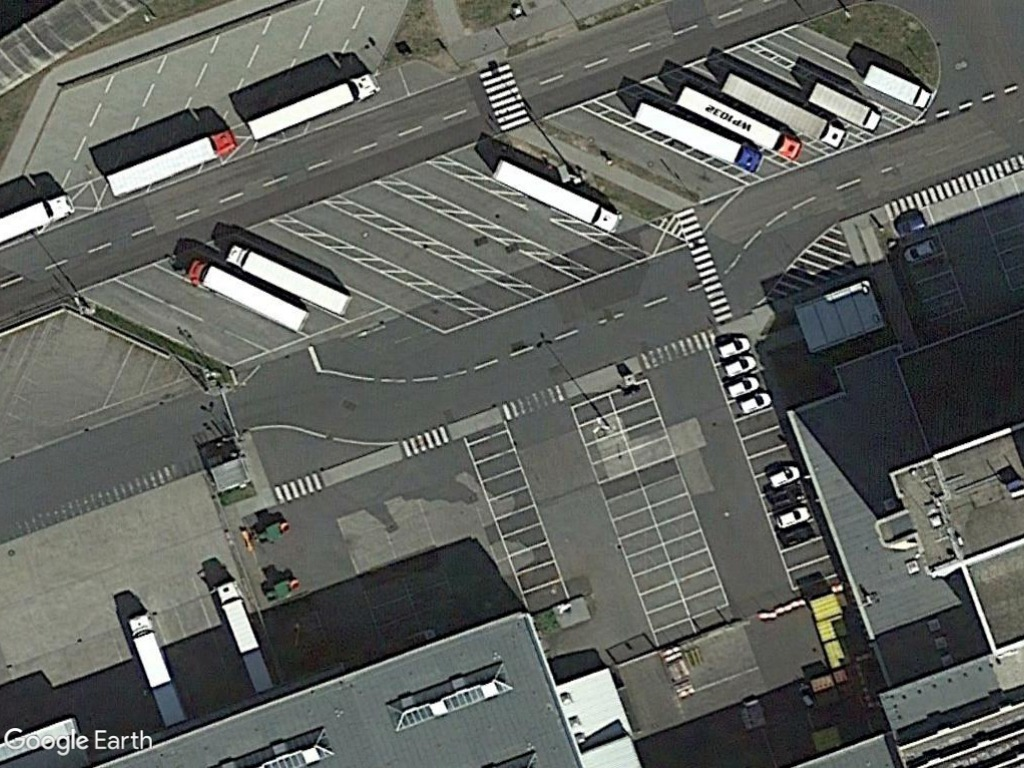car: (710, 369, 771, 405), (762, 498, 817, 533), (726, 387, 778, 421), (759, 457, 804, 495), (707, 330, 755, 365), (716, 352, 761, 381)
longvehicle: (85, 126, 259, 209), (228, 69, 404, 148), (717, 65, 850, 158), (216, 236, 358, 322), (167, 252, 317, 333), (486, 153, 624, 238), (668, 74, 795, 165), (625, 96, 766, 177), (124, 611, 190, 729), (211, 580, 278, 695)
truck: (858, 57, 937, 113), (805, 78, 884, 131)
